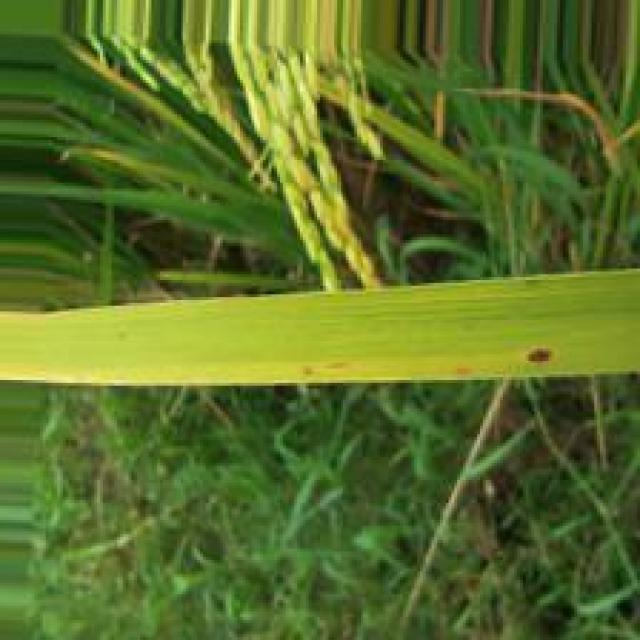Brown_Spot: (521, 342, 563, 364)
